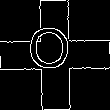O_S: (33, 29, 77, 81)
